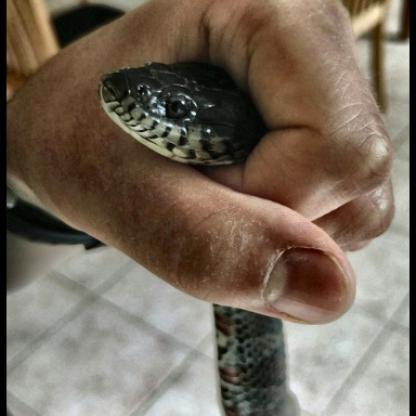Snake: (95, 55, 297, 413)
